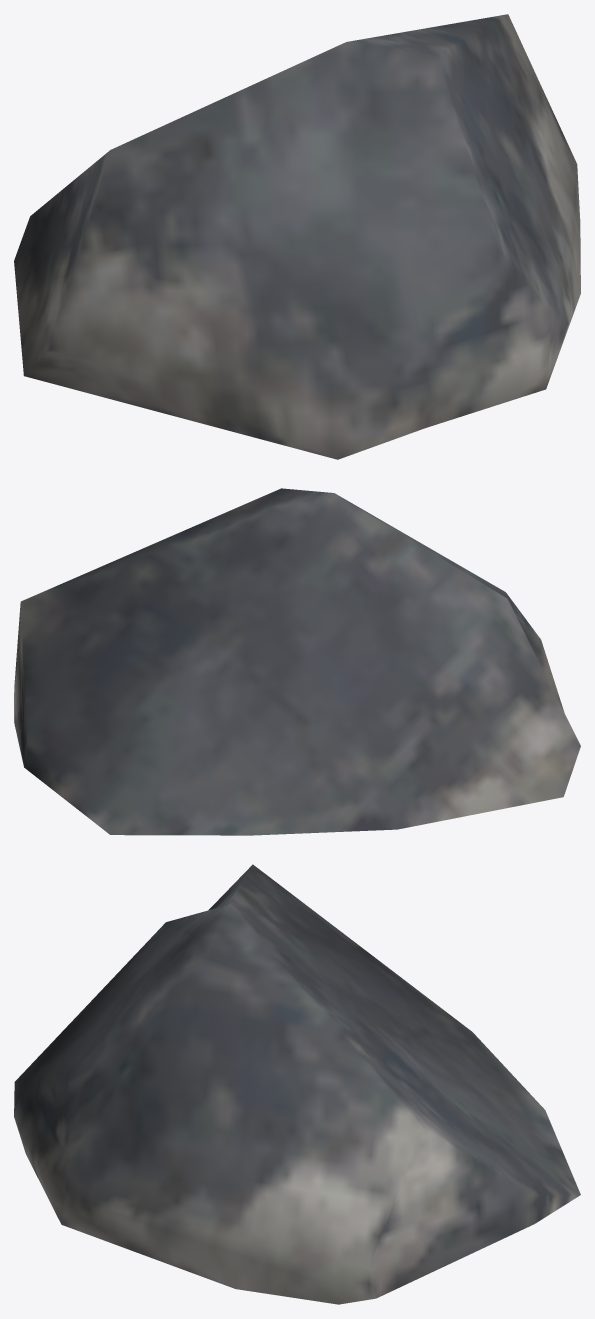
File: SM_Com_Roc_37AS.fbx
3 views of the same model, one above another, from view 1: azimuth 30°, elevation 25°; view 2: azimuth 150°, elevation 25°; view 3: azimuth 270°, elevation 25° (orthographic). The views are drawn at different scales.
Visible parts, largest first — view 1: SM_Com_Roc_37AS.mo; view 2: SM_Com_Roc_37AS.mo; view 3: SM_Com_Roc_37AS.mo.
Part boxes in pixels (box(x1,y1,x2,y2)): SM_Com_Roc_37AS.mo: box(14, 14, 580, 459); SM_Com_Roc_37AS.mo: box(14, 488, 580, 835); SM_Com_Roc_37AS.mo: box(14, 864, 580, 1304).
Size of the model in its own units: 1.35 by 0.6611 by 1.21.
